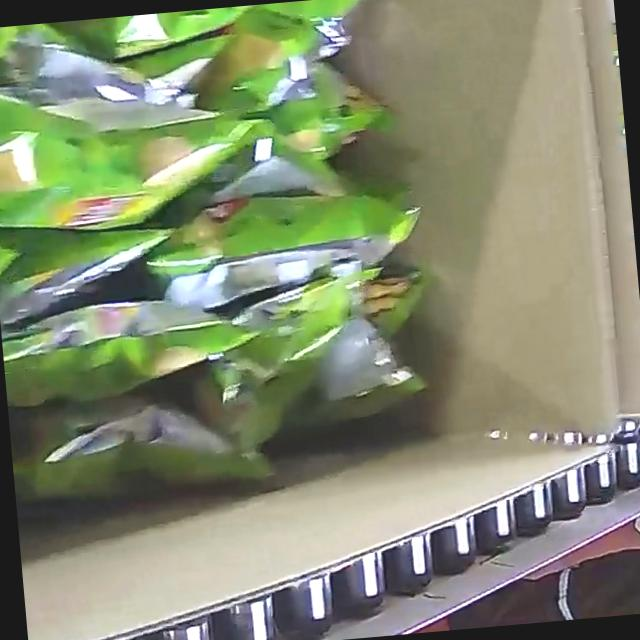yogurt: (0, 0, 450, 514)
